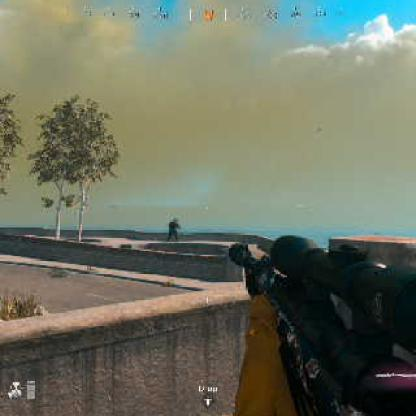enemy: (166, 217, 182, 243)
